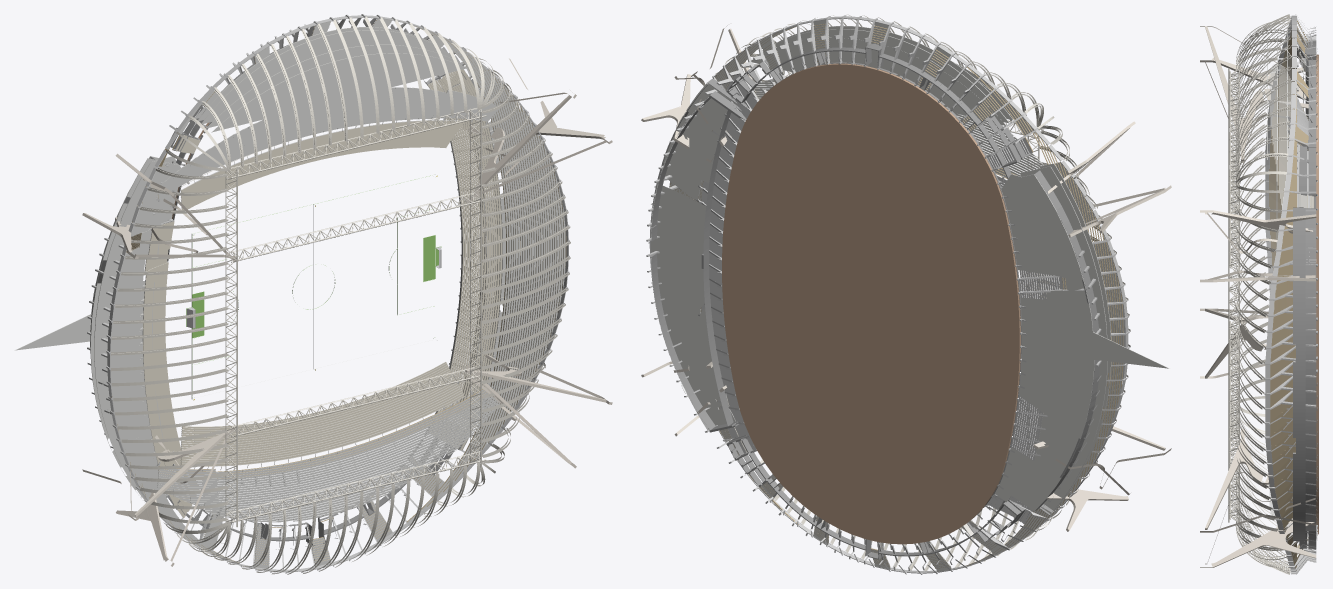
The model's file is existing.glb.
The picture shows the model from 3 angles, left to right: view 1: azimuth 30°, elevation 25°; view 2: azimuth 150°, elevation 25°; view 3: azimuth 270°, elevation 25°; orthographic projection. The views are drawn at different scales.
Parts seen in each view (by area): view 1: Чаша трибун · гребёнки и сиденья|IFCSLAB|BFBFBA, Козырьки трибун|IFCBUILDINGELEMENTPROXY|CBC4B4, Чаша трибун · гребёнки и сиденья|IFCSLAB|D3C7AB, Фермы покрытия|IFCBUILDINGELEMENTPROXY|CBC4B4, Пилоны|IFCBUILDINGELEMENTPROXY|CCBEAC, Чаша трибун · гребёнки и сиденья|IFCBEAM|8C734C, Козырьки трибун|IFCSLAB|BFBFBA, Чаша трибун · гребёнки и сиденья|IFCBUILDINGELEMENTPROXY|B4B, Этаж 3 · подтрибунные (отм. +7.000)|IFCSLAB|BFBFBA, Этаж 2 · подтрибунные (отм. +4.200)|IFCSLAB|BFBFBA, Чаша трибун · гребёнки и сиденья|IFCBUILDINGELEMENTPROXY|A8A, Этаж 1 · подтрибунные (отм. 0.000)|IFCWALLSTANDARDCASE|5B5B5 (+5 smaller); view 2: Площадка и поле|IFCSITE|94684B, Этаж 2 · подтрибунные (отм. +4.200)|IFCSLAB|BFBFBA, Площадка и поле|IFCSLAB|BFBFBA, Чаша трибун · гребёнки и сиденья|IFCSLAB|BFBFBA, Этаж 1 · подтрибунные (отм. 0.000)|IFCWALLSTANDARDCASE|5B5B5, Чаша трибун · гребёнки и сиденья|IFCBUILDINGELEMENTPROXY|A8A, Чаша трибун · гребёнки и сиденья|IFCSLAB|B4B4B4, Чаша трибун · гребёнки и сиденья|IFCBEAM|8C734C, Этаж 3 · подтрибунные (отм. +7.000)|IFCSLAB|BFBFBA, Пилоны|IFCBUILDINGELEMENTPROXY|CCBEAC, Козырьки трибун|IFCBUILDINGELEMENTPROXY|CBC4B4, Этаж 1 · подтрибунные (отм. 0.000)|IFCWALL|5B5B5B (+8 smaller); view 3: Козырьки трибун|IFCBUILDINGELEMENTPROXY|CBC4B4, Чаша трибун · гребёнки и сиденья|IFCBEAM|8C734C, Пилоны|IFCBUILDINGELEMENTPROXY|CCBEAC, Этаж 1 · подтрибунные (отм. 0.000)|IFCWALLSTANDARDCASE|5B5B5, Фермы покрытия|IFCBUILDINGELEMENTPROXY|CBC4B4, Этаж 3 · подтрибунные (отм. +7.000)|IFCWALLSTANDARDCASE|5B5B, Чаша трибун · гребёнки и сиденья|IFCBUILDINGELEMENTPROXY|A8A, Чаша трибун · гребёнки и сиденья|IFCSLAB|BFBFBA, Козырьки трибун|IFCBUILDINGELEMENTPROXY|A8A8A8, Площадка и поле|IFCSITE|94684B, Этаж 3 · подтрибунные (отм. +7.000)|IFCBUILDINGELEMENTPROXY|, Чаша трибун · гребёнки и сиденья|IFCBUILDINGELEMENTPROXY|B4B (+9 smaller).
Part boxes in pixels (box(x1,y1,x2,y2)): Чаша трибун · гребёнки и сиденья|IFCSLAB|BFBFBA: box(108, 18, 565, 568); Козырьки трибун|IFCBUILDINGELEMENTPROXY|CBC4B4: box(111, 16, 570, 574); Чаша трибун · гребёнки и сиденья|IFCSLAB|D3C7AB: box(141, 65, 505, 518); Фермы покрытия|IFCBUILDINGELEMENTPROXY|CBC4B4: box(225, 108, 486, 527); Пилоны|IFCBUILDINGELEMENTPROXY|CCBEAC: box(82, 58, 612, 566); Чаша трибун · гребёнки и сиденья|IFCBEAM|8C734C: box(110, 20, 566, 564); Козырьки трибун|IFCSLAB|BFBFBA: box(211, 53, 467, 132); Чаша трибун · гребёнки и сиденья|IFCBUILDINGELEMENTPROXY|B4B: box(143, 69, 502, 466); Этаж 3 · подтрибунные (отм. +7.000)|IFCSLAB|BFBFBA: box(94, 27, 493, 510); Этаж 2 · подтрибунные (отм. +4.200)|IFCSLAB|BFBFBA: box(90, 79, 505, 519); Чаша трибун · гребёнки и сиденья|IFCBUILDINGELEMENTPROXY|A8A: box(87, 14, 569, 573); Этаж 1 · подтрибунные (отм. 0.000)|IFCWALLSTANDARDCASE|5B5B5: box(168, 32, 486, 542); Площадка и поле|IFCSITE|94684B: box(722, 63, 1020, 544); Этаж 2 · подтрибунные (отм. +4.200)|IFCSLAB|BFBFBA: box(651, 37, 1107, 527); Площадка и поле|IFCSLAB|BFBFBA: box(995, 174, 1169, 511); Чаша трибун · гребёнки и сиденья|IFCSLAB|BFBFBA: box(670, 20, 1124, 571); Этаж 1 · подтрибунные (отм. 0.000)|IFCWALLSTANDARDCASE|5B5B5: box(650, 46, 1068, 559); Чаша трибун · гребёнки и сиденья|IFCBUILDINGELEMENTPROXY|A8A: box(646, 15, 1129, 574); Чаша трибун · гребёнки и сиденья|IFCSLAB|B4B4B4: box(701, 69, 1063, 524); Чаша трибун · гребёнки и сиденья|IFCBEAM|8C734C: box(670, 23, 1124, 568); Этаж 3 · подтрибунные (отм. +7.000)|IFCSLAB|BFBFBA: box(664, 29, 1111, 512); Пилоны|IFCBUILDINGELEMENTPROXY|CCBEAC: box(641, 25, 1171, 531); Козырьки трибун|IFCBUILDINGELEMENTPROXY|CBC4B4: box(715, 14, 1130, 570); Этаж 1 · подтрибунные (отм. 0.000)|IFCWALL|5B5B5B: box(709, 43, 1099, 558); Козырьки трибун|IFCBUILDINGELEMENTPROXY|CBC4B4: box(1234, 14, 1290, 574); Чаша трибун · гребёнки и сиденья|IFCBEAM|8C734C: box(1269, 20, 1308, 570); Пилоны|IFCBUILDINGELEMENTPROXY|CCBEAC: box(1200, 26, 1316, 567); Этаж 1 · подтрибунные (отм. 0.000)|IFCWALLSTANDARDCASE|5B5B5: box(1305, 39, 1316, 549); Фермы покрытия|IFCBUILDINGELEMENTPROXY|CBC4B4: box(1228, 66, 1239, 525); Этаж 3 · подтрибунные (отм. +7.000)|IFCWALLSTANDARDCASE|5B5B: box(1293, 208, 1305, 540); Чаша трибун · гребёнки и сиденья|IFCBUILDINGELEMENTPROXY|A8A: box(1264, 14, 1316, 574); Чаша трибун · гребёнки и сиденья|IFCSLAB|BFBFBA: box(1269, 22, 1308, 556); Козырьки трибун|IFCBUILDINGELEMENTPROXY|A8A8A8: box(1266, 15, 1296, 571); Площадка и поле|IFCSITE|94684B: box(1316, 54, 1318, 534); Этаж 3 · подтрибунные (отм. +7.000)|IFCBUILDINGELEMENTPROXY|: box(1271, 190, 1316, 545); Чаша трибун · гребёнки и сиденья|IFCBUILDINGELEMENTPROXY|B4B: box(1297, 46, 1312, 541).
Size of the model in its own units: 231 by 225 by 46.33.
